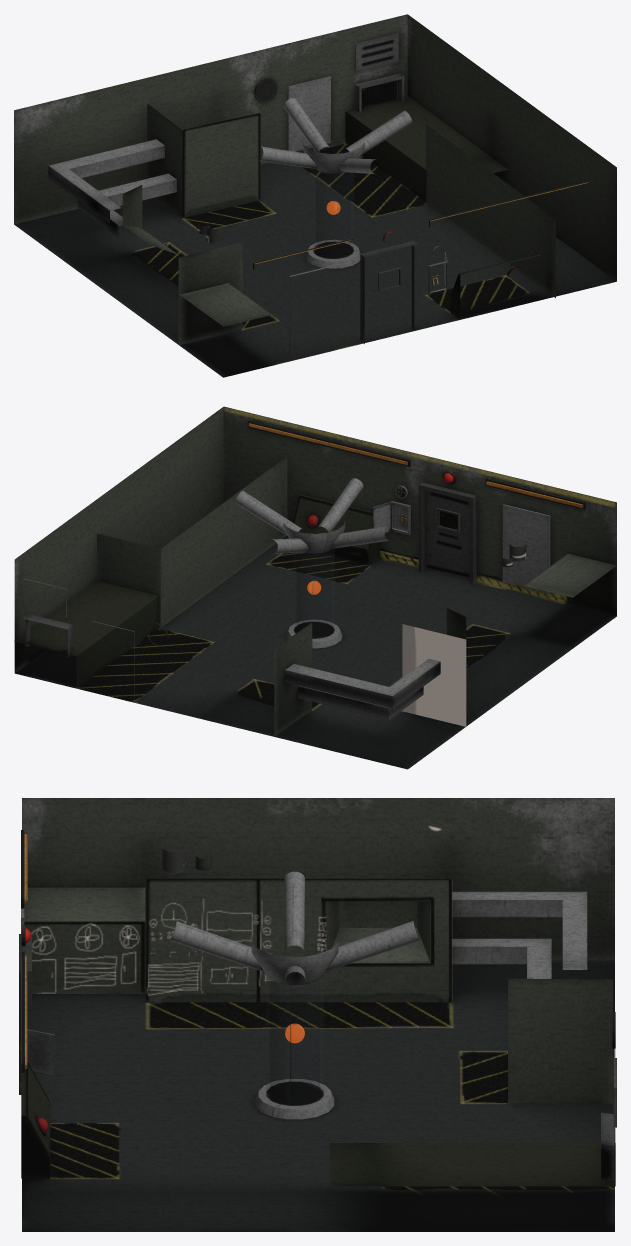
Rendered from cenario.glb.
3 views of the same model, one above another, from view 1: azimuth 30°, elevation 25°; view 2: azimuth 150°, elevation 25°; view 3: azimuth 270°, elevation 25° (orthographic). The views are drawn at different scales.
Visible parts, largest first — view 1: Plane, Cube.003, Cube.001, Cube.007, Cube, Cube.005, Plane.008, Cube.015, Cube.008, Plane.001, Cube.006, Cube.012 (+6 smaller); view 2: Plane, Cube.003, Cube.007, Cube, Cube.004, Cube.005, Cube.014, Plane.008, Cube.001, Cube.016, Cube.015, Plane.001 (+8 smaller); view 3: Plane, Cube, Cube.001, Cube.015, Cube.007, Plane.008, Cube.005, Plane.001, Cube.006, Cube.016, Cylinder.007, Cylinder.005 (+5 smaller).
Boxes of the visible parts, bbox=[...] form: Plane: bbox=[14, 14, 616, 377]; Cube.003: bbox=[426, 124, 555, 297]; Cube.001: bbox=[147, 103, 260, 217]; Cube.007: bbox=[345, 96, 507, 201]; Cube: bbox=[122, 185, 242, 344]; Cube.005: bbox=[48, 139, 164, 222]; Plane.008: bbox=[313, 170, 353, 258]; Cube.015: bbox=[180, 283, 272, 326]; Cube.008: bbox=[288, 76, 330, 151]; Plane.001: bbox=[302, 141, 364, 268]; Cube.006: bbox=[77, 173, 176, 238]; Cube.012: bbox=[354, 73, 404, 112]; Plane: bbox=[14, 406, 616, 769]; Cube.003: bbox=[97, 456, 287, 627]; Cube.007: bbox=[14, 581, 158, 687]; Cube: bbox=[402, 608, 466, 726]; Cube.004: bbox=[418, 482, 476, 584]; Cube.005: bbox=[285, 659, 440, 708]; Cube.014: bbox=[502, 504, 550, 593]; Plane.008: bbox=[294, 550, 334, 638]; Cube.001: bbox=[274, 622, 312, 736]; Cube.016: bbox=[292, 494, 380, 565]; Cube.015: bbox=[524, 553, 616, 597]; Plane.001: bbox=[283, 520, 345, 648]; Plane: bbox=[22, 798, 614, 1231]; Cube: bbox=[145, 878, 452, 1002]; Cube.001: bbox=[508, 978, 612, 1103]; Cube.015: bbox=[24, 887, 145, 993]; Cube.007: bbox=[329, 1143, 615, 1186]; Plane.008: bbox=[266, 980, 324, 1105]; Cube.005: bbox=[452, 891, 587, 969]; Plane.001: bbox=[251, 942, 338, 1119]; Cube.006: bbox=[452, 938, 551, 978]; Cube.016: bbox=[21, 1061, 50, 1178]; Cylinder.007: bbox=[170, 921, 271, 971]; Cylinder.005: bbox=[317, 921, 419, 971].
Bounding box in the file's own units: 12.31 × 3.94 × 11.48.
1 material, 1 textured.
